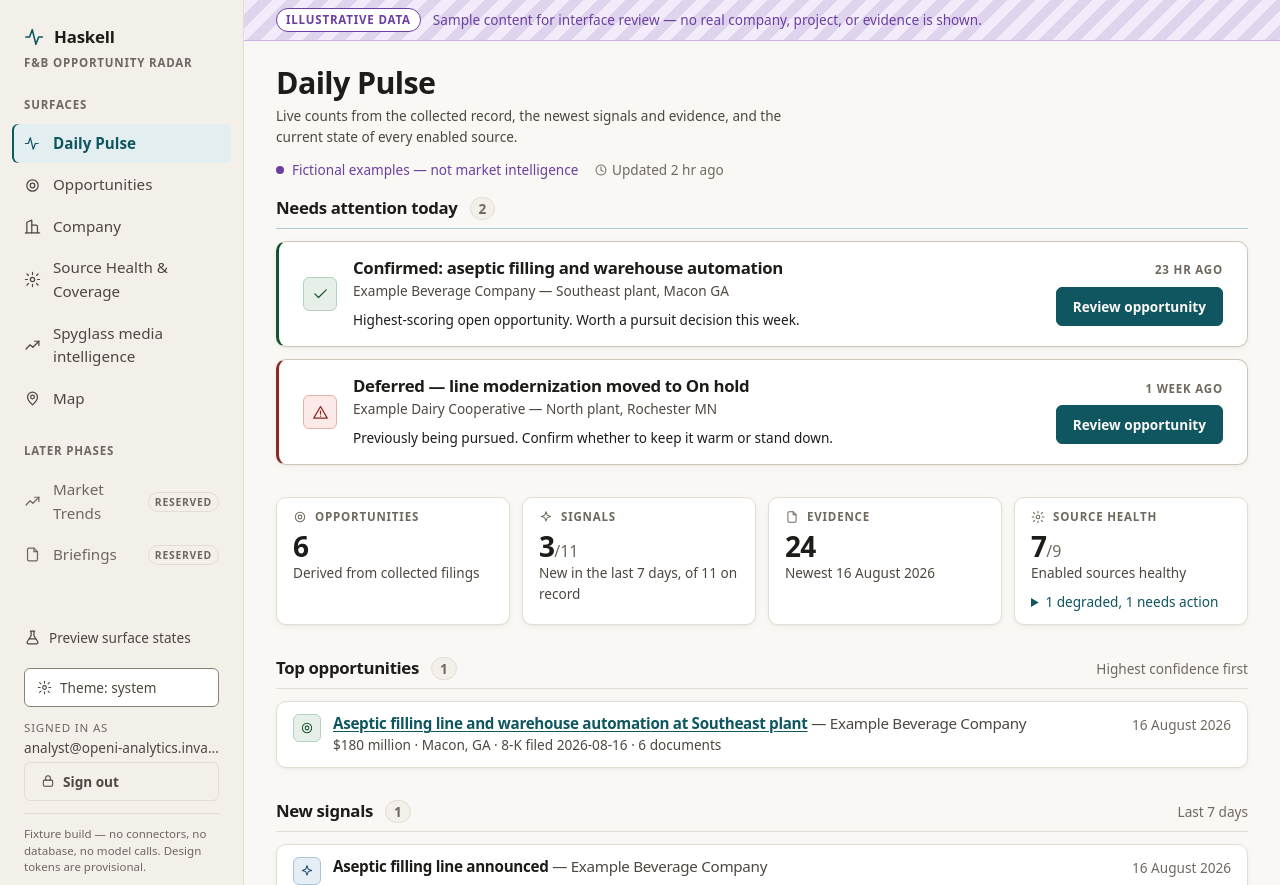
Test: Daily Pulse still behaves as approved › lands on the full page, never a drawer, from a pulse link
Click the link "Review opportunity" below "23 hr ago" at [1139, 307], box [1056,287,1223,326]
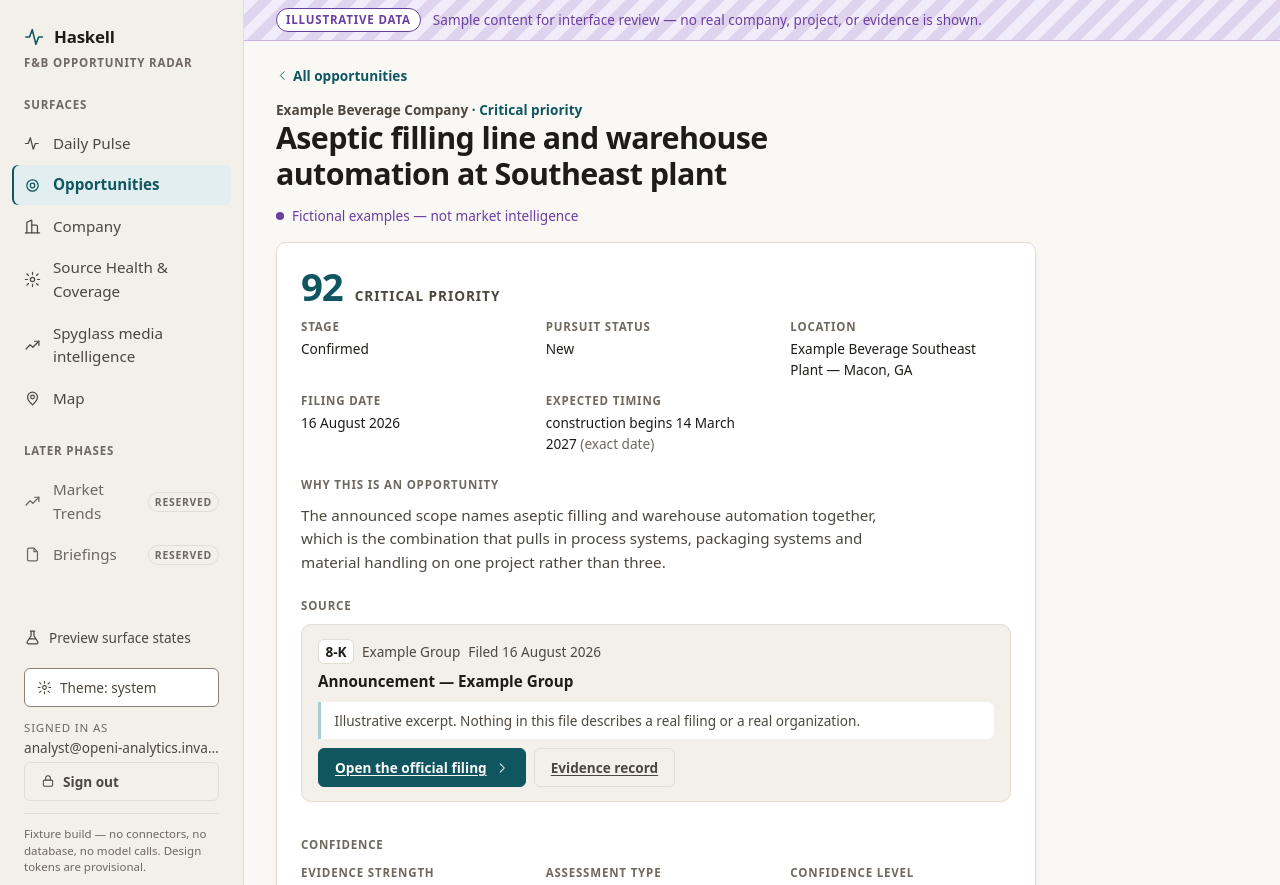
Check: the heading "Aseptic filling line and warehouse automation at Southeast plant" is shown, box [276,120,832,193]
